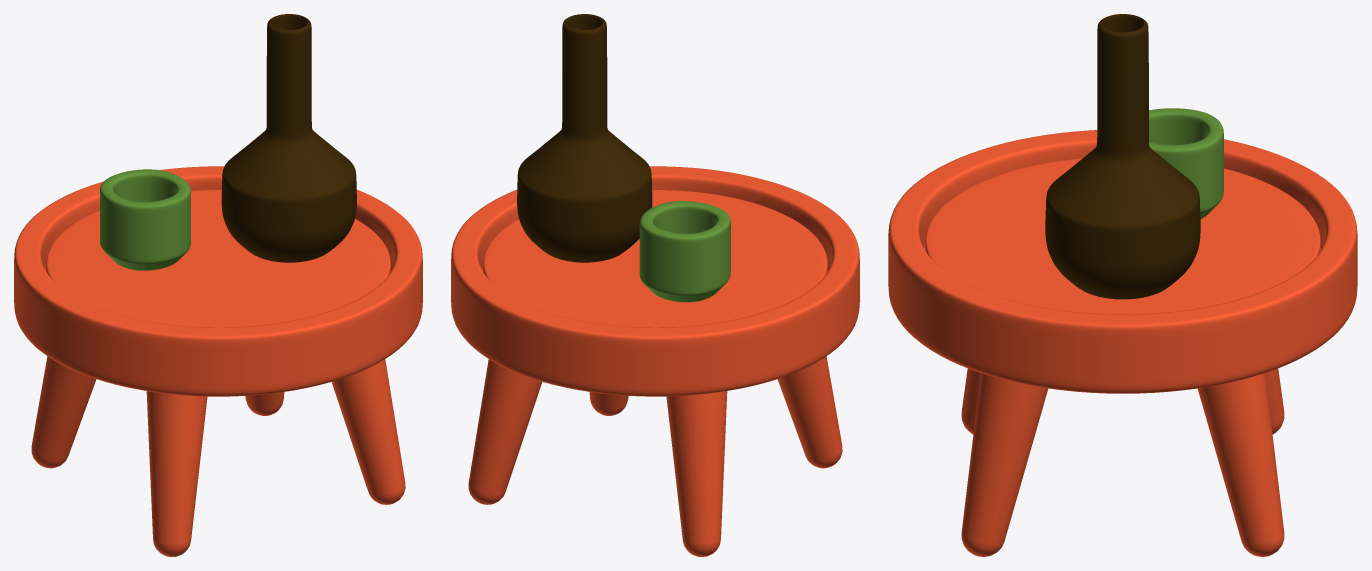
The model's file is table.glb.
The picture shows the model from 3 angles, left to right: view 1: azimuth 30°, elevation 25°; view 2: azimuth 150°, elevation 25°; view 3: azimuth 270°, elevation 25°; orthographic projection. The views are drawn at different scales.
Parts seen in each view (by area): view 1: Cylinder.012, Cylinder.011, Cylinder.009, Cube.021; view 2: Cylinder.012, Cylinder.011, Cylinder.009, Cube.021; view 3: Cylinder.012, Cylinder.011, Cylinder.009, Cube.021.
Part boxes in pixels (bbox=[...]): Cylinder.012: bbox=[14, 166, 422, 396]; Cylinder.011: bbox=[221, 14, 356, 262]; Cylinder.009: bbox=[31, 356, 405, 556]; Cube.021: bbox=[100, 169, 190, 270]; Cylinder.012: bbox=[451, 166, 859, 396]; Cylinder.011: bbox=[517, 14, 652, 262]; Cylinder.009: bbox=[468, 356, 842, 556]; Cube.021: bbox=[639, 201, 730, 302]; Cylinder.012: bbox=[888, 130, 1357, 393]; Cylinder.011: bbox=[1045, 14, 1200, 299]; Cylinder.009: bbox=[961, 368, 1284, 556]; Cube.021: bbox=[1149, 108, 1223, 218].
Size of the model in its own units: 1.91 by 2.3 by 1.91.
